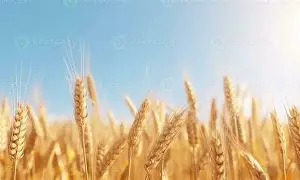crops: (0, 76, 295, 177)
